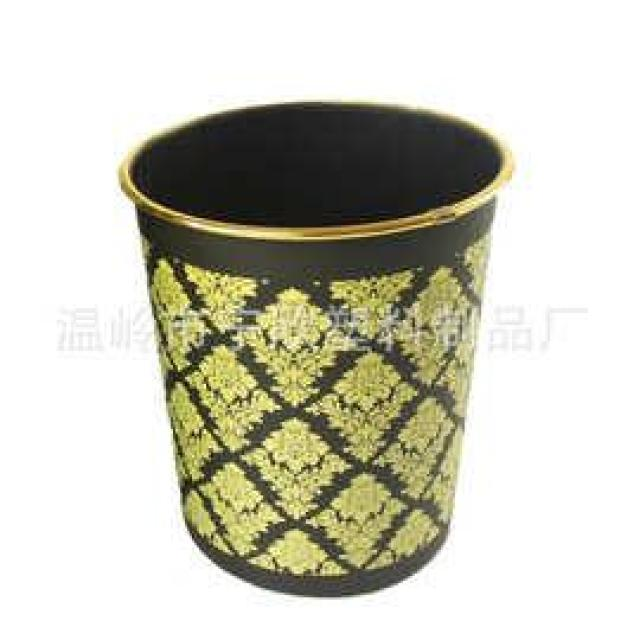dustbin: (105, 91, 522, 607)
